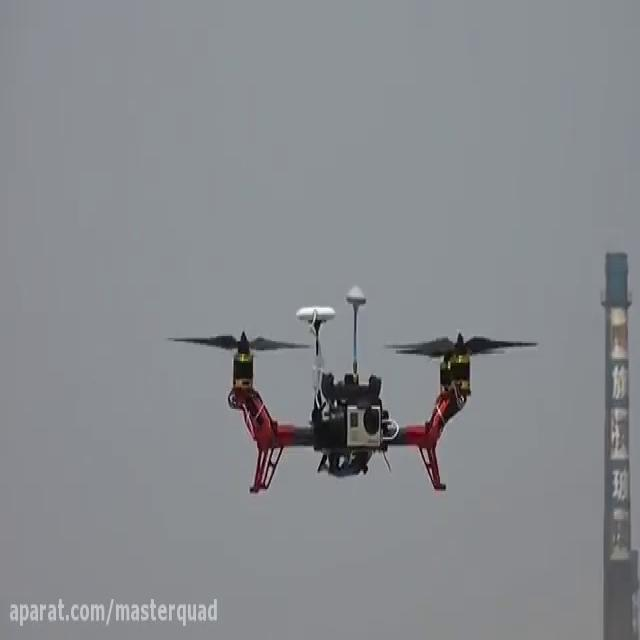drone: (163, 283, 541, 496)
